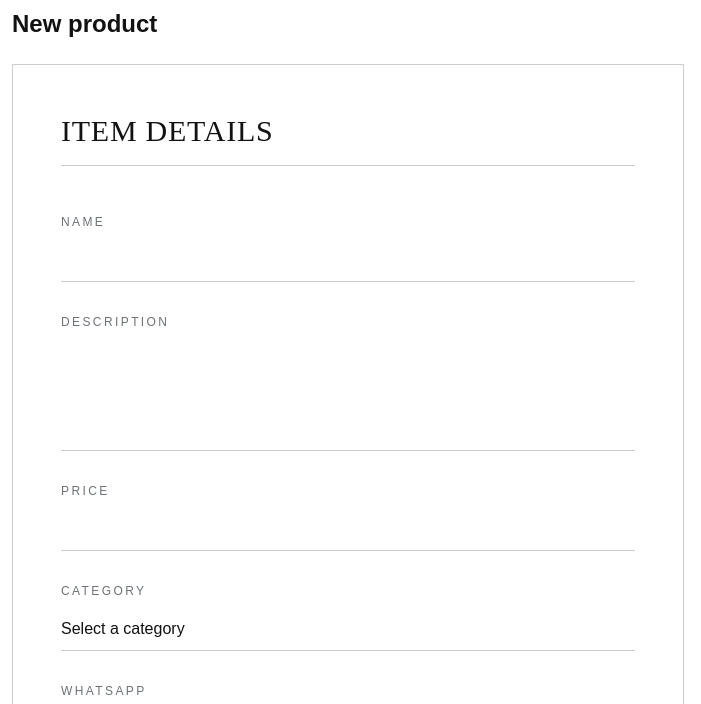
Test: NewProductPage › shows validation error when price is invalid
The image size is (701, 704).
In the field labelled "Name": x=348, y=260 [61, 238, 635, 282], type "Espresso"
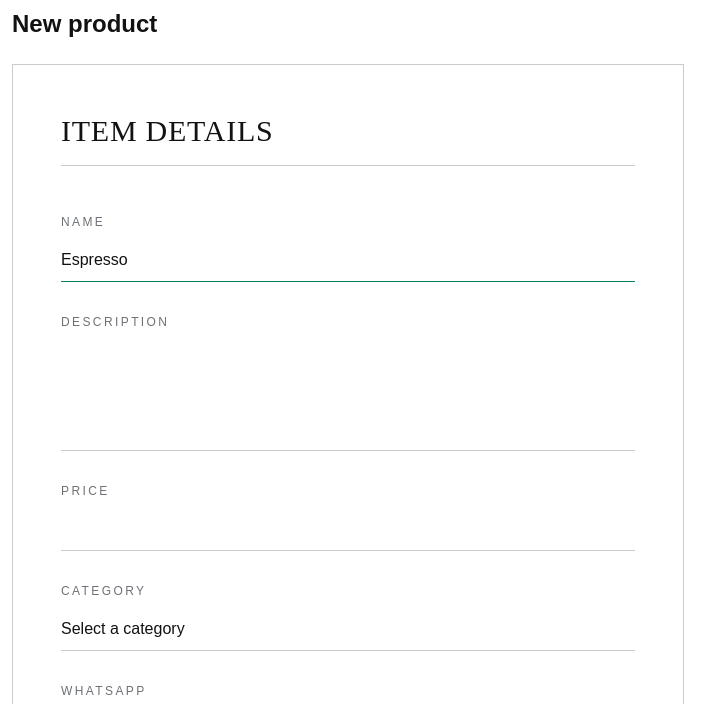
In the number field labelled "Price": x=348, y=529 [61, 507, 635, 551], type "-5"
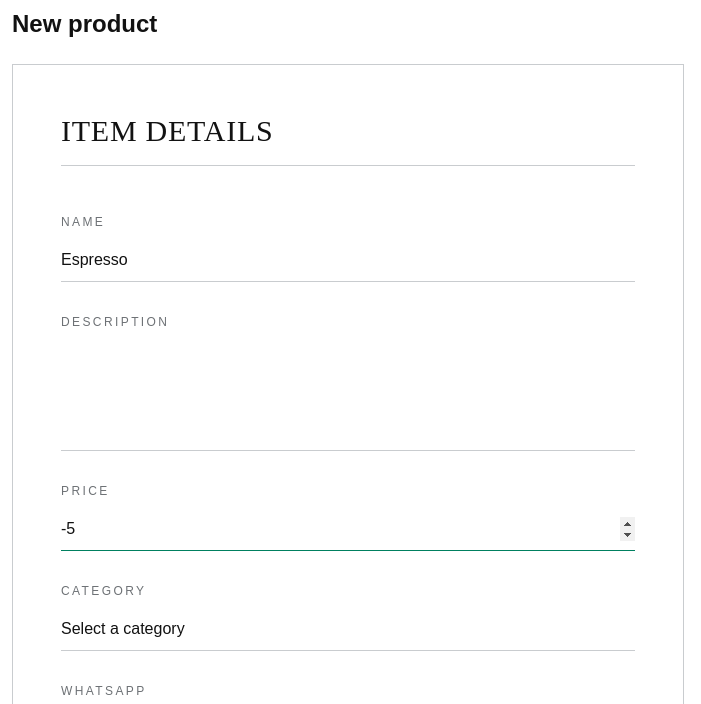
Select "Drinks" in the dropdown labelled "Category": x=348, y=629 [61, 607, 635, 651]
(page scrolled)
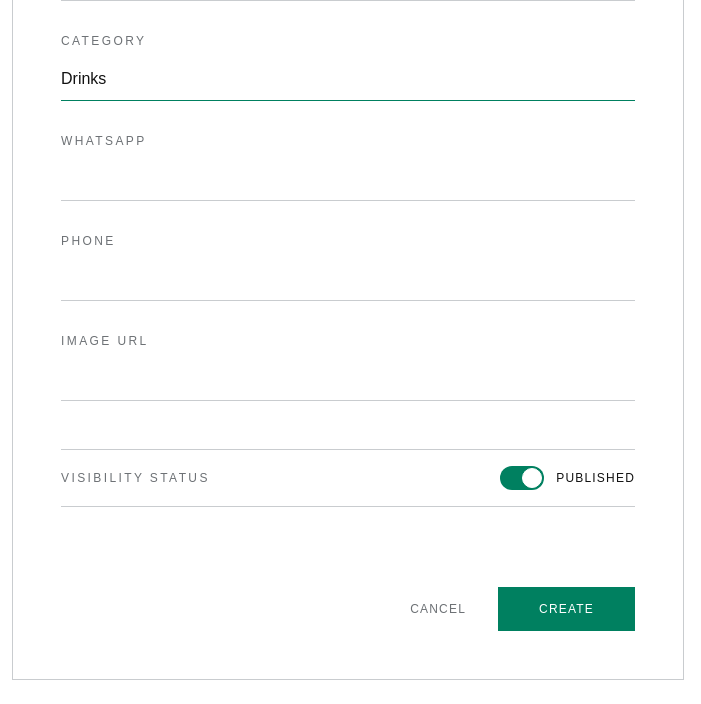
Click the button "Create": x=566, y=609 [498, 587, 635, 631]
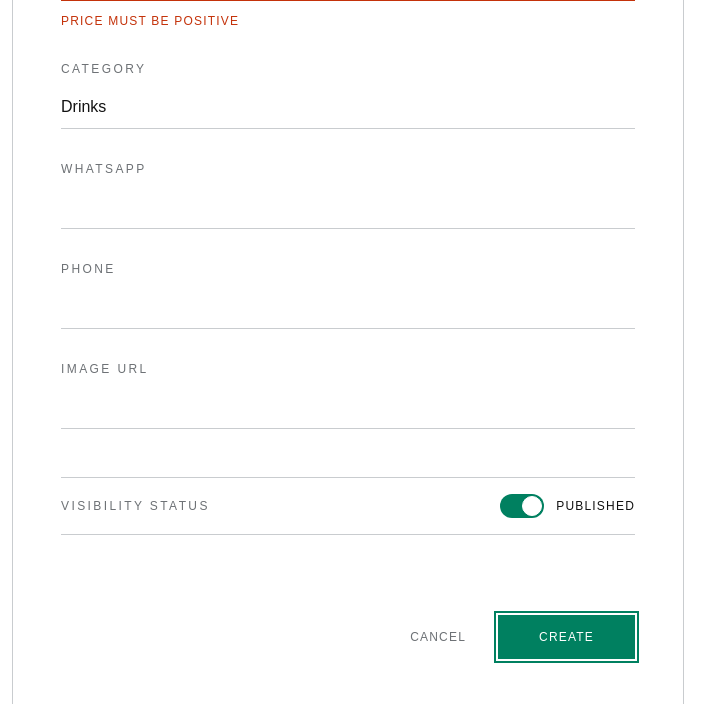
Expected: the text "Price must be positive" is shown, [61, 14, 239, 28]
